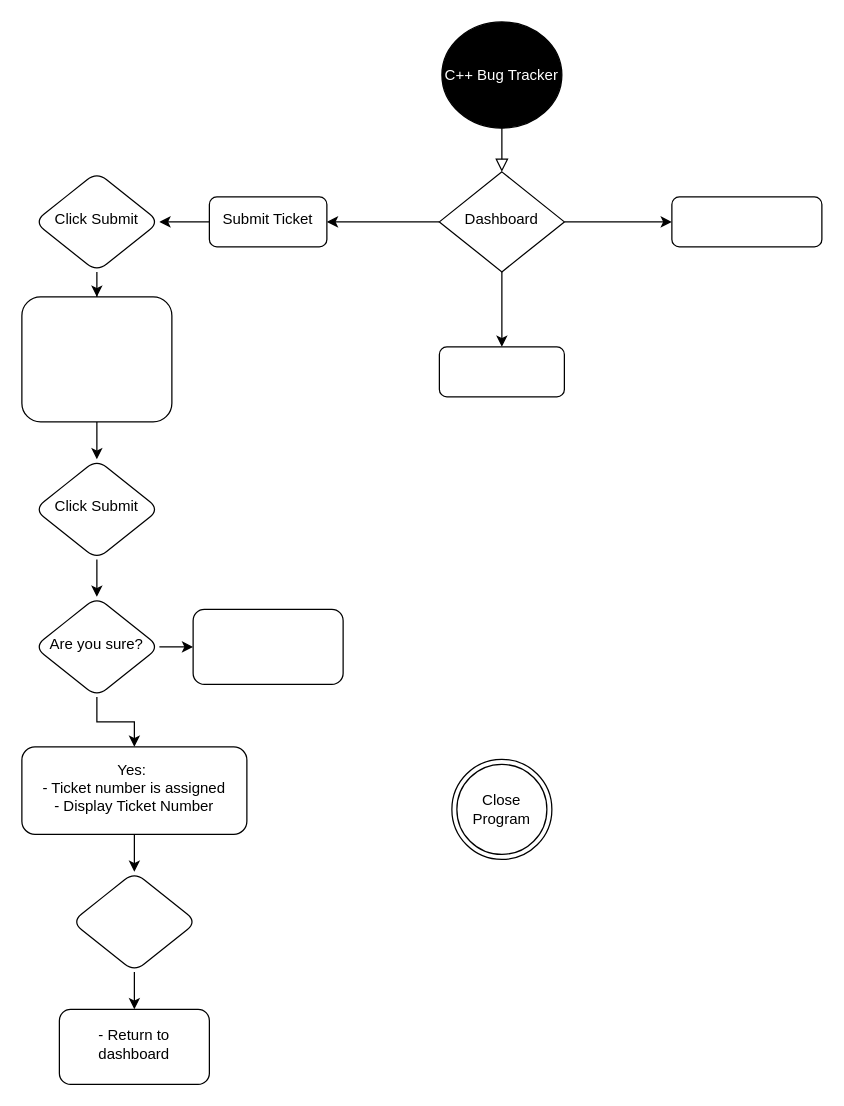
Image size: 844x1106. Some labels were removed from this diagram. Each missing label, with the box of its shape:
Acknowledge: (71, 871, 197, 972)
Delete Ticket: (671, 196, 822, 247)
Fill out form : - Program Name - Description - Files / Images - Due by Date: (21, 296, 172, 422)
No: Return to previous screen: (192, 608, 343, 684)
Update Ticket: (438, 346, 564, 397)
